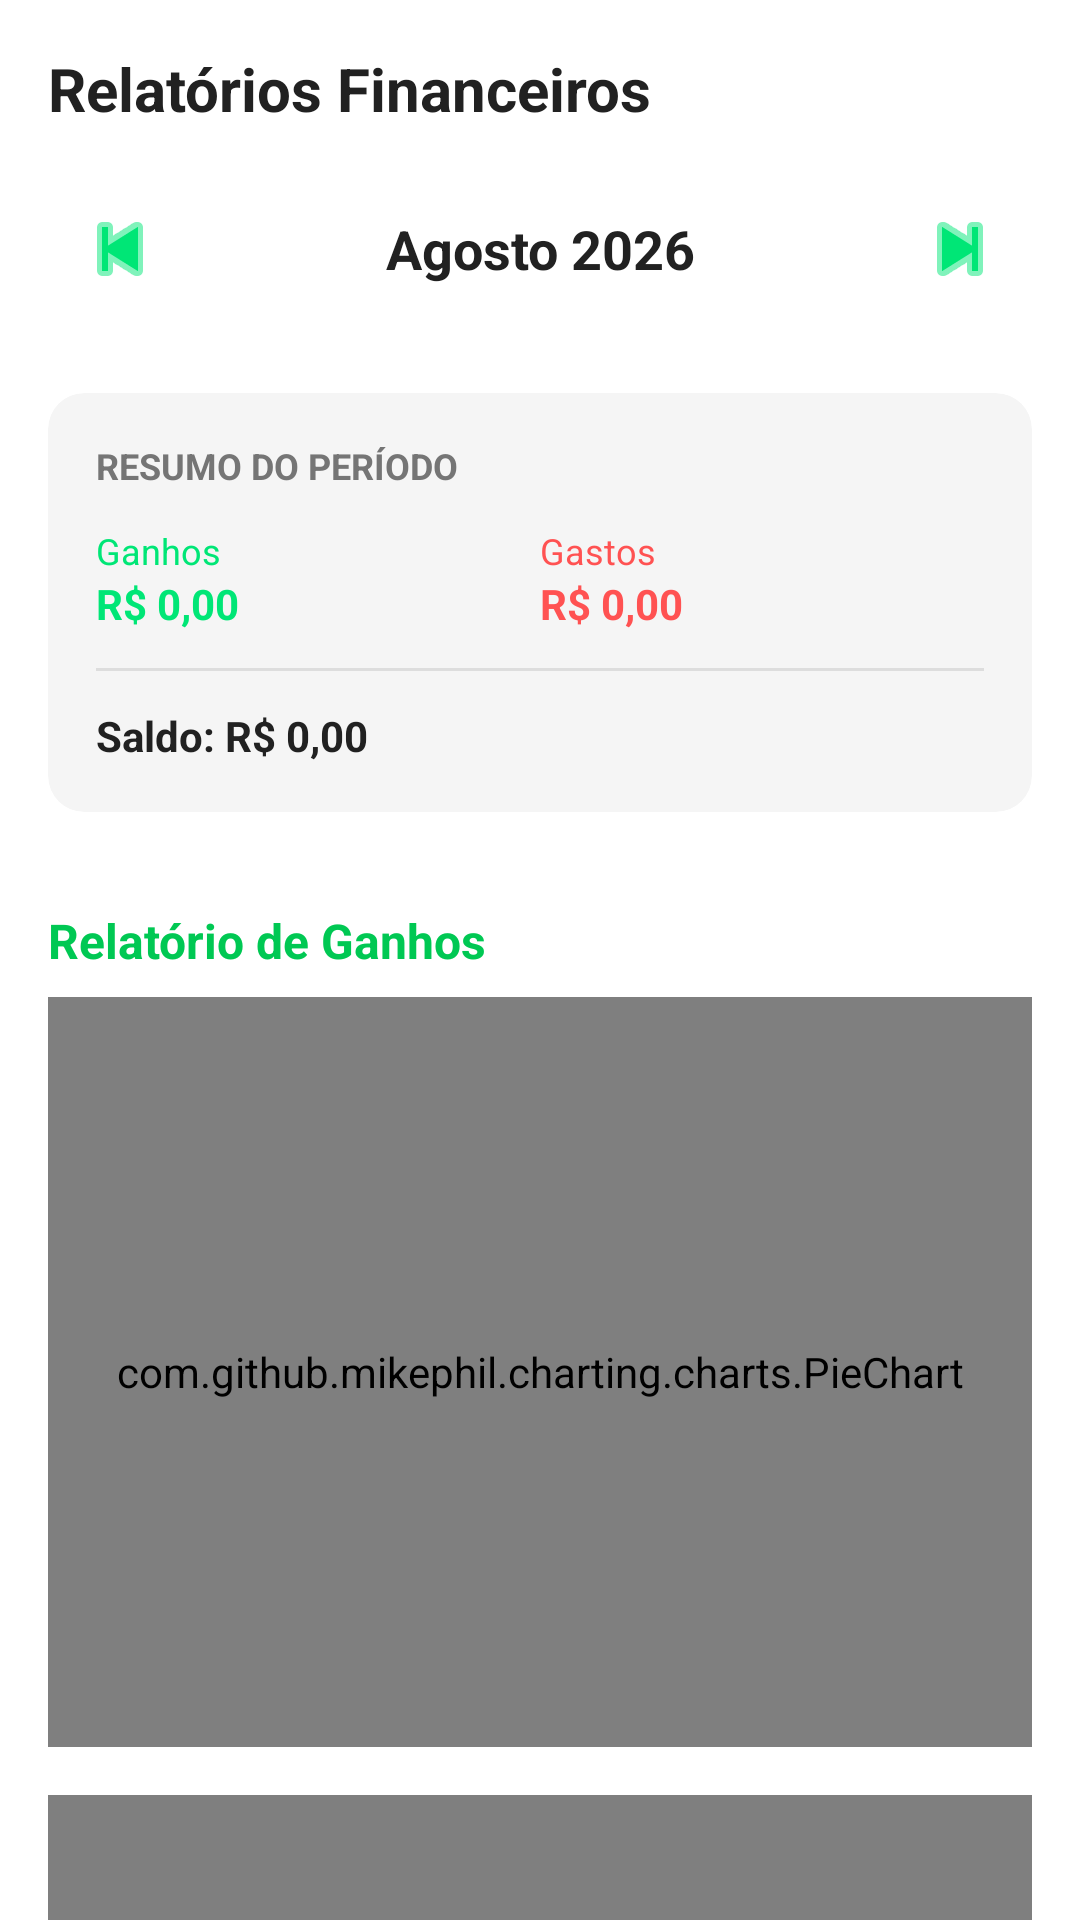

Icon click points for this 1080*1920 phone screenshot, format point (x, y):
Mês Anterior: point (120, 249)
Próximo Mês: point (960, 249)
